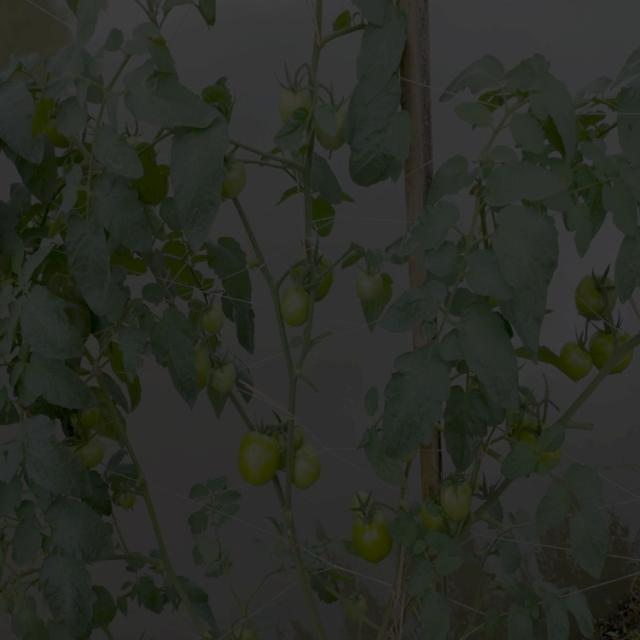tomato: (506, 404, 566, 473), (278, 259, 339, 322), (350, 499, 399, 566), (271, 66, 311, 130), (244, 422, 283, 487), (569, 267, 618, 318), (317, 99, 354, 154), (591, 329, 637, 373), (222, 144, 252, 198), (67, 429, 106, 465), (556, 343, 587, 388), (182, 341, 211, 386), (447, 476, 474, 521), (360, 269, 392, 304), (296, 451, 325, 487), (198, 305, 227, 338), (419, 503, 443, 541), (218, 365, 238, 396), (350, 583, 369, 614), (112, 485, 136, 508), (233, 623, 255, 640)
